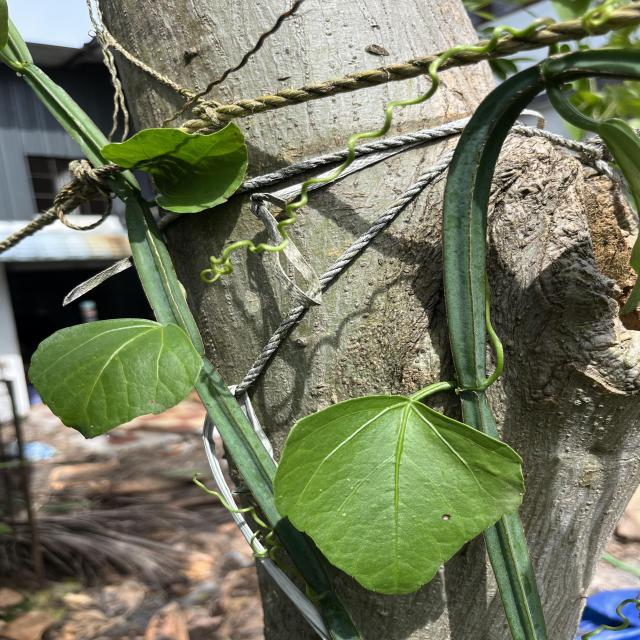Cissus quadrangularis: (270, 390, 528, 598), (27, 316, 206, 442)
